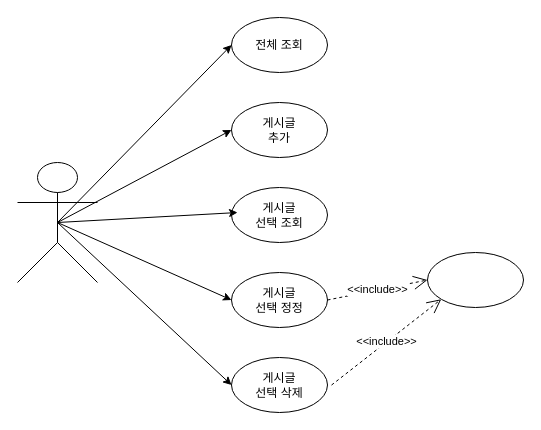
Image size: 541x430. Some labels were removed from this diagram. Each missing label, with the centre of its shape:
고객: pixel 57 222
비밀번호 인증: pixel 475 280
